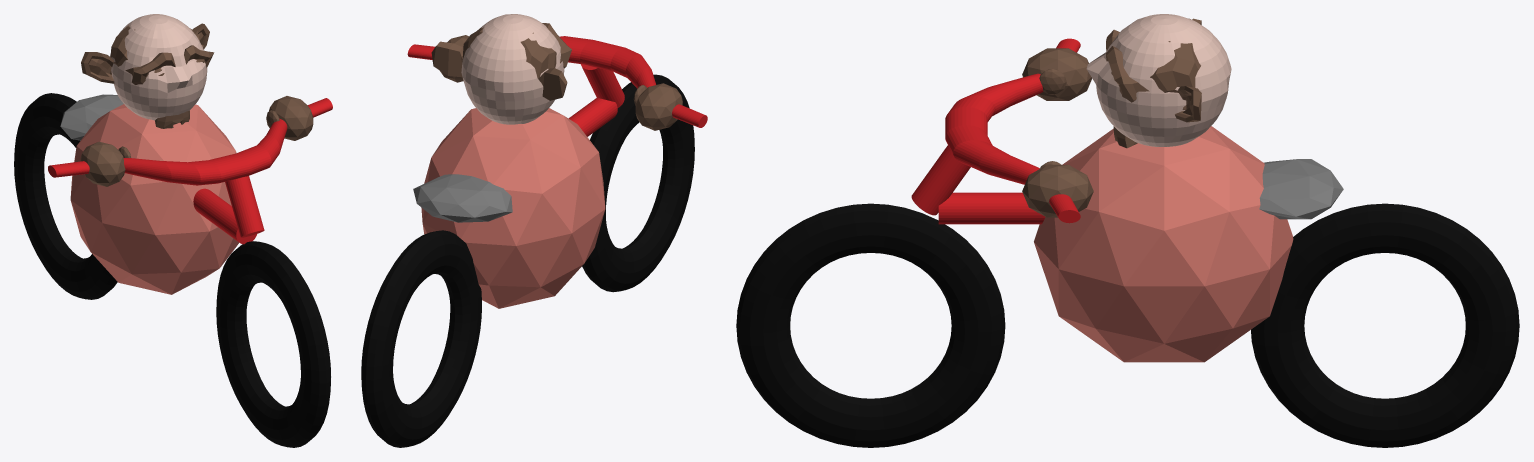
Rendered from bike.fbx.
3 views of the same model, side by side, from view 1: azimuth 30°, elevation 25°; view 2: azimuth 150°, elevation 25°; view 3: azimuth 270°, elevation 25° (orthographic). The views are drawn at different scales.
Visible parts, largest first — view 1: Icosphere.004, Torus.001, Torus.000, Sphere, Cylinder, Suzanne, Icosphere.005, Cylinder.002, Icosphere.003, Cylinder.001, Icosphere; view 2: Icosphere.004, Torus.000, Torus.001, Sphere, Icosphere.005, Cylinder, Suzanne, Icosphere.003, Cylinder.001, Cylinder.002; view 3: Icosphere.004, Torus.001, Torus.000, Sphere, Cylinder, Icosphere.005, Suzanne, Cylinder.001, Icosphere, Icosphere.003, Cylinder.002.
Boxes of the visible parts, x1=… form: Icosphere.004: x1=70, y1=104, x2=238, y2=294; Torus.001: x1=216, y1=241, x2=330, y2=447; Torus.000: x1=14, y1=93, x2=117, y2=299; Sphere: x1=110, y1=14, x2=207, y2=120; Cylinder: x1=48, y1=98, x2=332, y2=185; Suzanne: x1=81, y1=23, x2=214, y2=128; Icosphere.005: x1=60, y1=94, x2=123, y2=140; Cylinder.002: x1=225, y1=176, x2=264, y2=237; Icosphere.003: x1=80, y1=141, x2=125, y2=186; Cylinder.001: x1=193, y1=188, x2=256, y2=244; Icosphere: x1=269, y1=96, x2=313, y2=140; Icosphere.004: x1=421, y1=108, x2=605, y2=308; Torus.000: x1=361, y1=230, x2=481, y2=447; Torus.001: x1=582, y1=74, x2=694, y2=292; Sphere: x1=461, y1=14, x2=564, y2=124; Icosphere.005: x1=413, y1=174, x2=512, y2=222; Cylinder: x1=407, y1=36, x2=707, y2=127; Suzanne: x1=431, y1=22, x2=571, y2=100; Icosphere.003: x1=635, y1=83, x2=682, y2=130; Cylinder.001: x1=568, y1=98, x2=617, y2=136; Cylinder.002: x1=580, y1=64, x2=624, y2=107; Icosphere.004: x1=1034, y1=126, x2=1293, y2=362; Torus.001: x1=736, y1=203, x2=1005, y2=447; Torus.000: x1=1251, y1=203, x2=1519, y2=447; Sphere: x1=1086, y1=14, x2=1231, y2=146; Cylinder: x1=945, y1=38, x2=1080, y2=223; Icosphere.005: x1=1259, y1=159, x2=1343, y2=219; Suzanne: x1=1106, y1=18, x2=1201, y2=148; Cylinder.001: x1=938, y1=192, x2=1045, y2=224; Icosphere: x1=1022, y1=165, x2=1093, y2=217; Icosphere.003: x1=1022, y1=48, x2=1091, y2=100; Cylinder.002: x1=911, y1=145, x2=970, y2=215.
Size of the model in its own units: 5.91 by 6.89 by 11.41.
